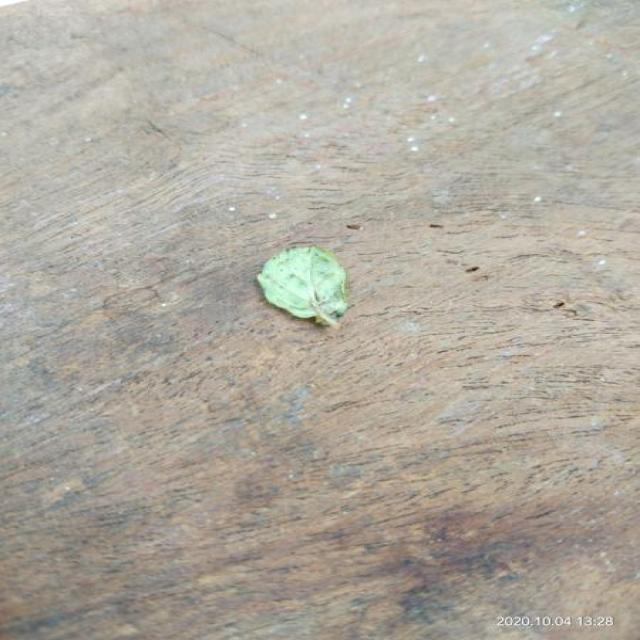mint: (257, 246, 347, 327)
